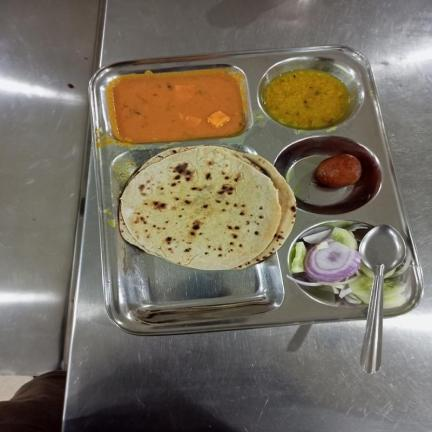Chana Dal: (265, 69, 350, 131)
Gulab Jamun: (317, 153, 362, 189)
Paneer: (111, 71, 245, 141)
Plate: (89, 45, 422, 337)
Roti: (119, 144, 295, 272)
Salad: (287, 226, 416, 306)
